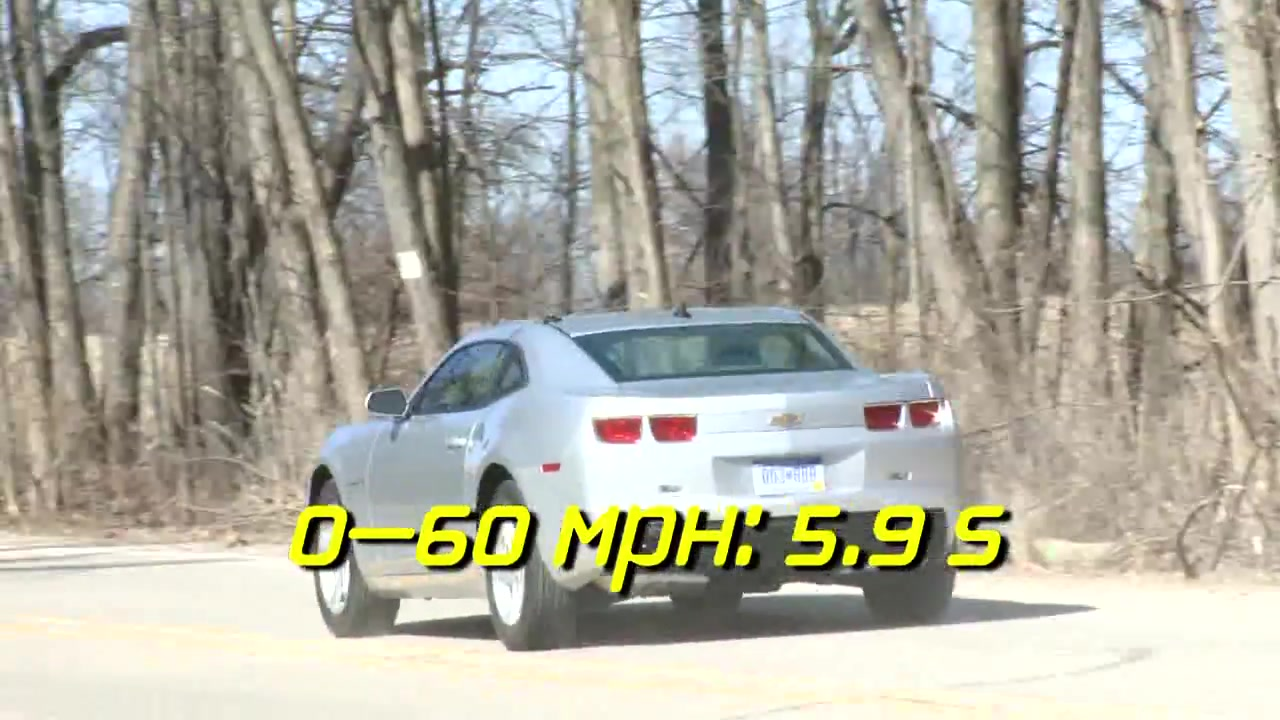car: (303, 305, 970, 654)
